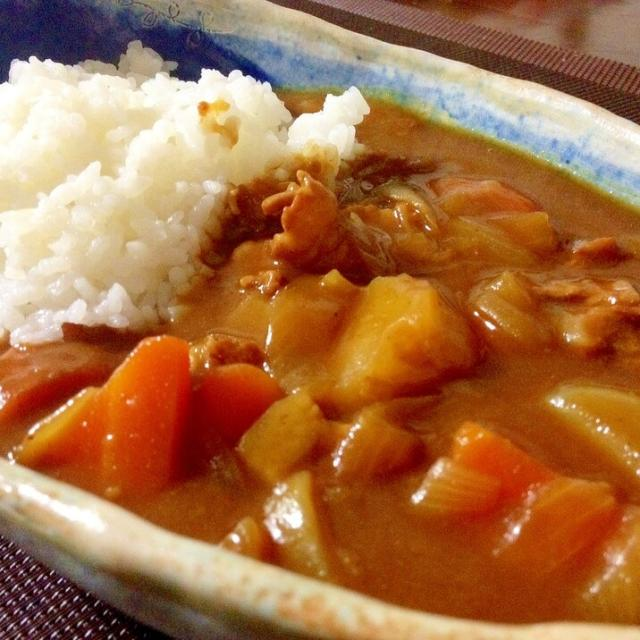Wet: (0, 57, 640, 618)
